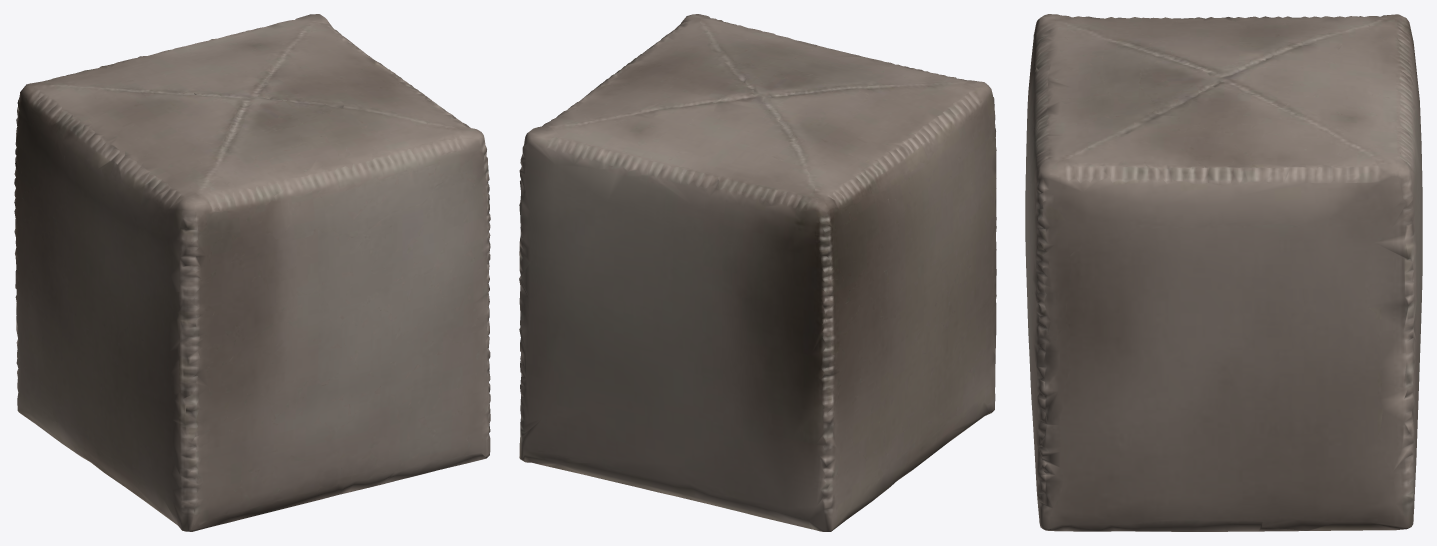
Rendered from pouf.glb.
3 views of the same model, side by side, from view 1: azimuth 30°, elevation 25°; view 2: azimuth 150°, elevation 25°; view 3: azimuth 270°, elevation 25° (orthographic). The views are drawn at different scales.
Visible parts, largest first — view 1: world; view 2: world; view 3: world.
Boxes of the visible parts, bbox=[...] form: world: bbox=[14, 14, 490, 531]; world: bbox=[519, 14, 996, 531]; world: bbox=[1025, 14, 1422, 531].
Size of the model in its own units: 0.9979 by 1 by 0.9649.
1 material, 1 textured.
